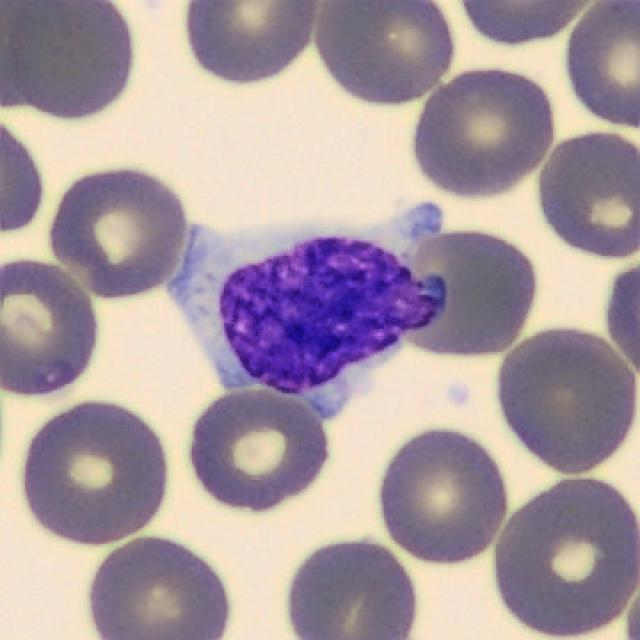Linfocito atipico: (169, 204, 446, 420)
